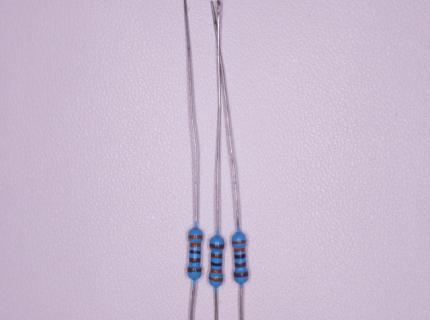Black band: (234, 253, 246, 258), (211, 262, 222, 266), (190, 251, 200, 254)
Brown band: (234, 272, 248, 277), (210, 243, 224, 248), (188, 268, 202, 273), (235, 262, 246, 267), (211, 253, 222, 258), (189, 258, 200, 263)
Orange band: (209, 276, 223, 282), (211, 268, 221, 274), (188, 235, 202, 239), (233, 240, 246, 244), (190, 243, 201, 247), (234, 248, 245, 252)
